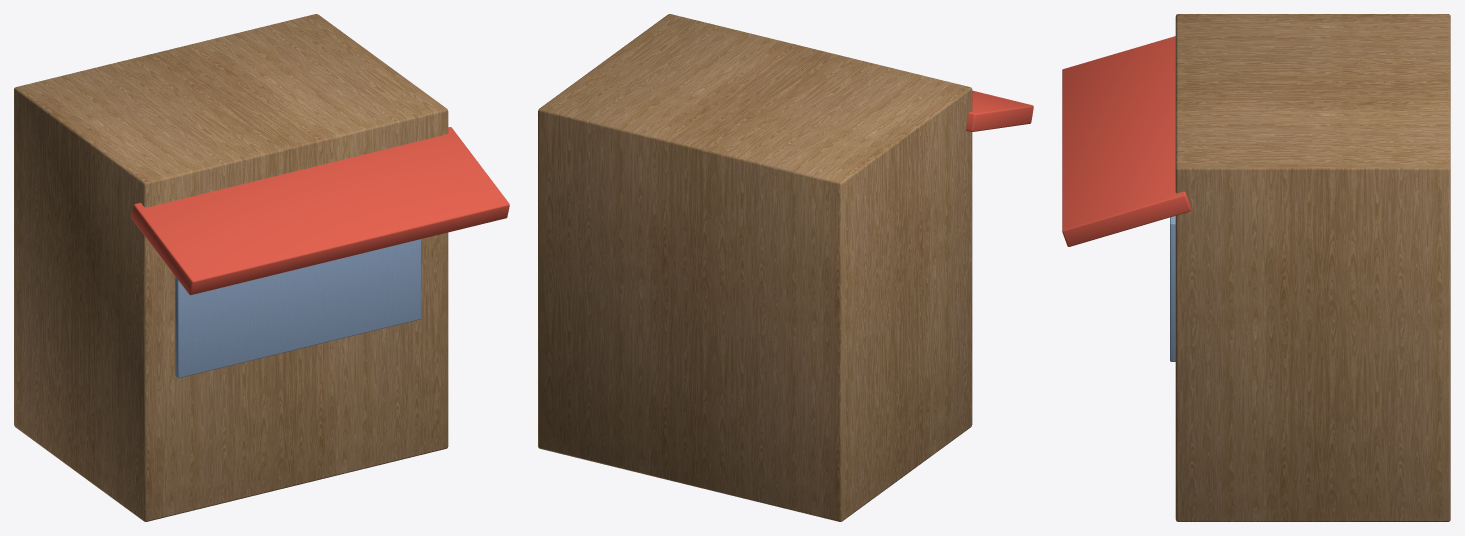
Rendered from crepe-kiosk-35ac15eafe86.glb.
3 views of the same model, side by side, from view 1: azimuth 30°, elevation 25°; view 2: azimuth 150°, elevation 25°; view 3: azimuth 270°, elevation 25° (orthographic). The views are drawn at different scales.
Visible parts, largest first — view 1: Booth, Awning, Service_Window; view 2: Booth, Awning; view 3: Booth, Awning, Service_Window.
Part boxes in pixels (x1,y1,x2,y2): Booth: (14, 14, 448, 521); Awning: (131, 127, 509, 295); Service_Window: (175, 239, 420, 378); Booth: (538, 14, 972, 521); Awning: (966, 90, 1033, 131); Booth: (1175, 14, 1450, 521); Awning: (1062, 36, 1190, 246); Service_Window: (1170, 216, 1175, 361).
Bounding box in the file's own units: 2.3 × 2.35 × 2.33.
Materials: 3 (2 with a texture image).
